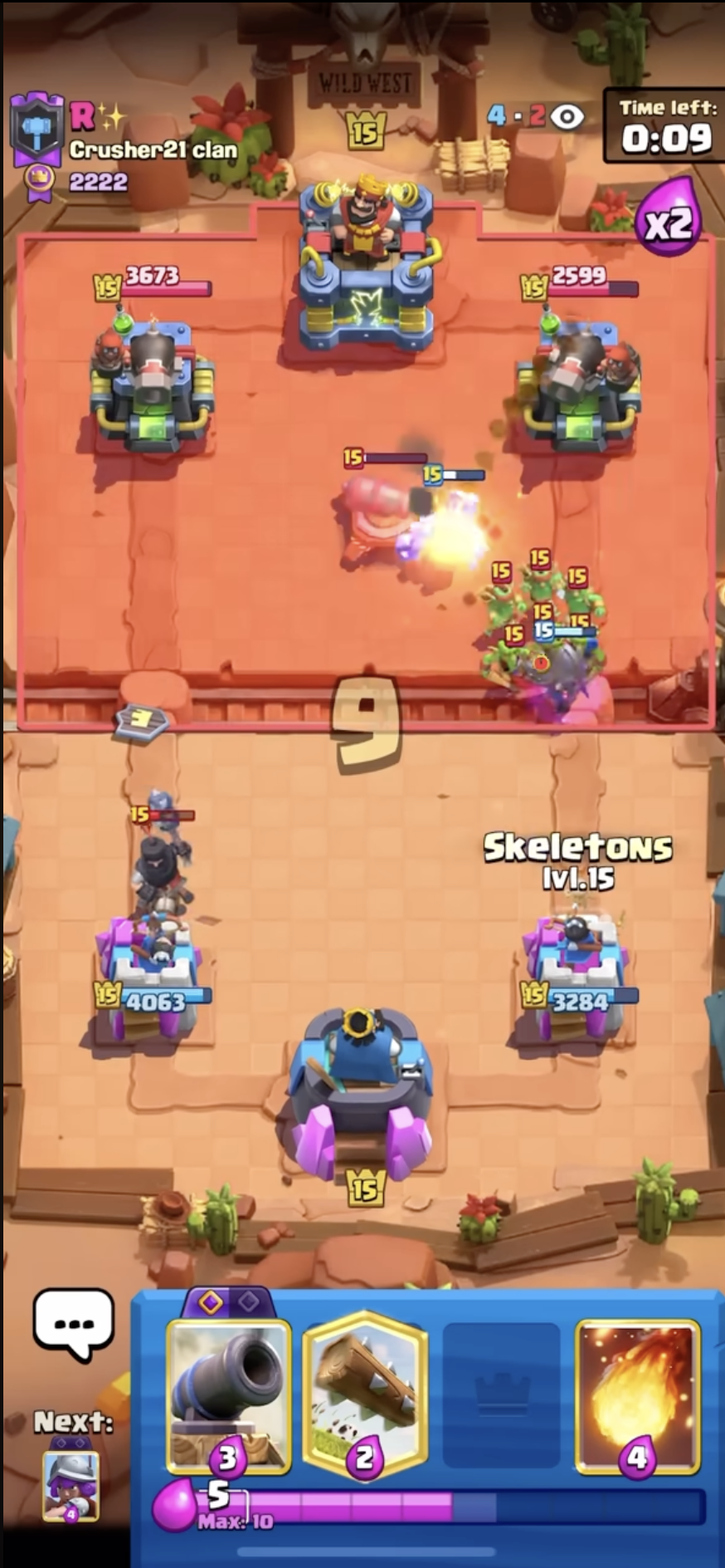evo-musketeer: (534, 620, 605, 721)
hog-rider: (409, 460, 499, 584)
